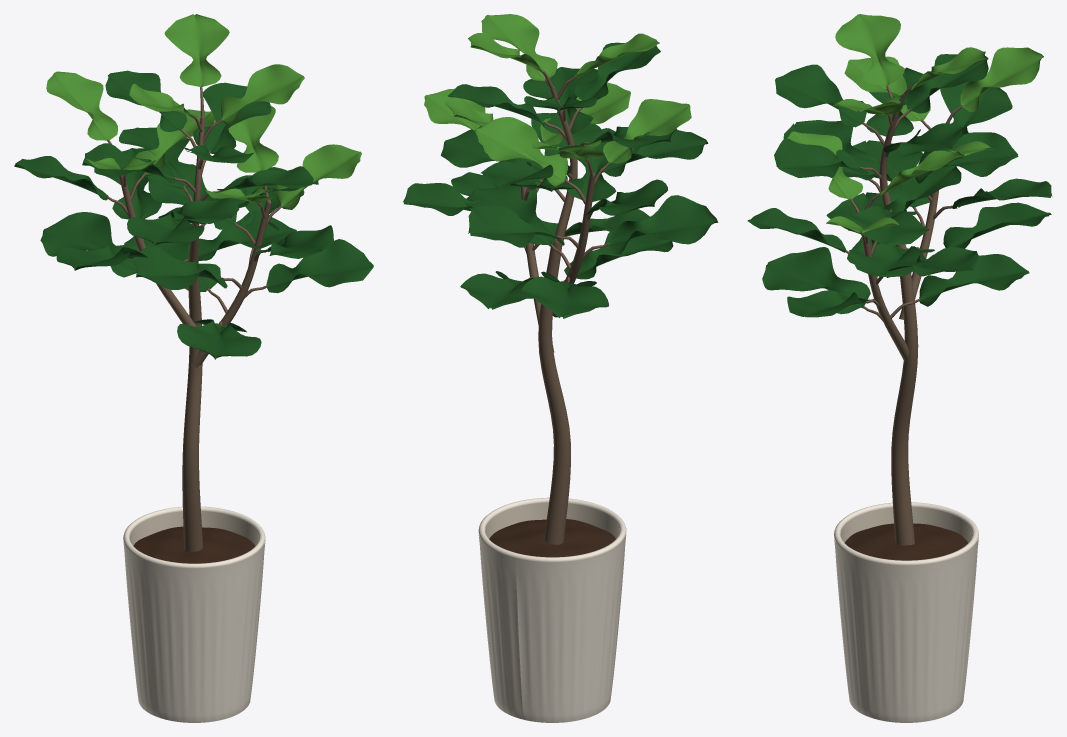
File: tall_fiddle_fig_realistic.glb
3 renders of one model, left to right at view 1: azimuth 30°, elevation 25°; view 2: azimuth 150°, elevation 25°; view 3: azimuth 270°, elevation 25°, orthographic. The views are drawn at different scales.
Visible parts, largest first — view 1: Tall_Fiddle_Leaf_Fig_Corridor_Planter; view 2: Tall_Fiddle_Leaf_Fig_Corridor_Planter; view 3: Tall_Fiddle_Leaf_Fig_Corridor_Planter.
Part boxes in pixels (left/top/right/bottom): Tall_Fiddle_Leaf_Fig_Corridor_Planter: left=14, top=14, right=373, bottom=722; Tall_Fiddle_Leaf_Fig_Corridor_Planter: left=403, top=14, right=718, bottom=722; Tall_Fiddle_Leaf_Fig_Corridor_Planter: left=747, top=14, right=1052, bottom=722.
Bounding box in the file's own units: 0.7853 × 1.7 × 0.7136.
